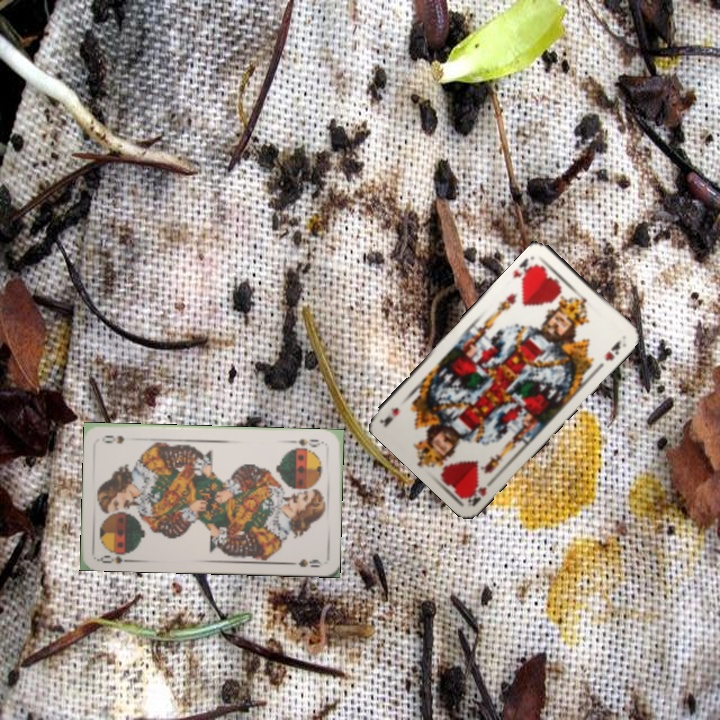HK: (462, 473, 499, 508), (509, 254, 541, 286)
SO: (95, 547, 136, 566), (287, 435, 326, 451)
